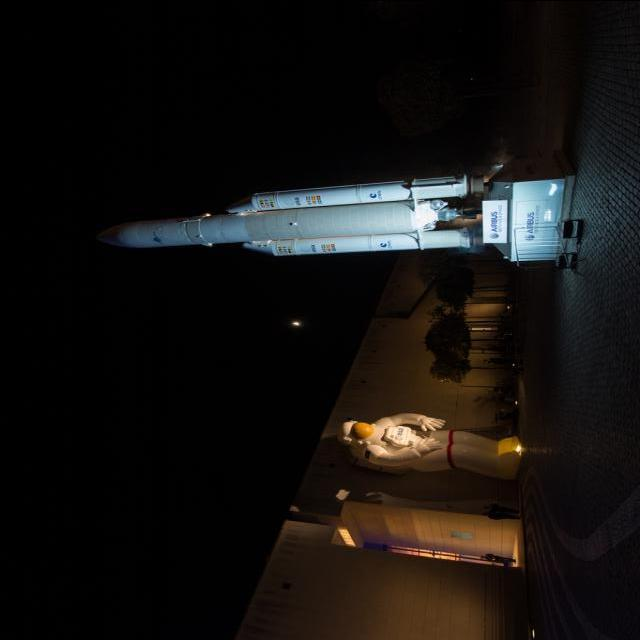missile: (57, 198, 445, 249), (212, 171, 467, 211)
